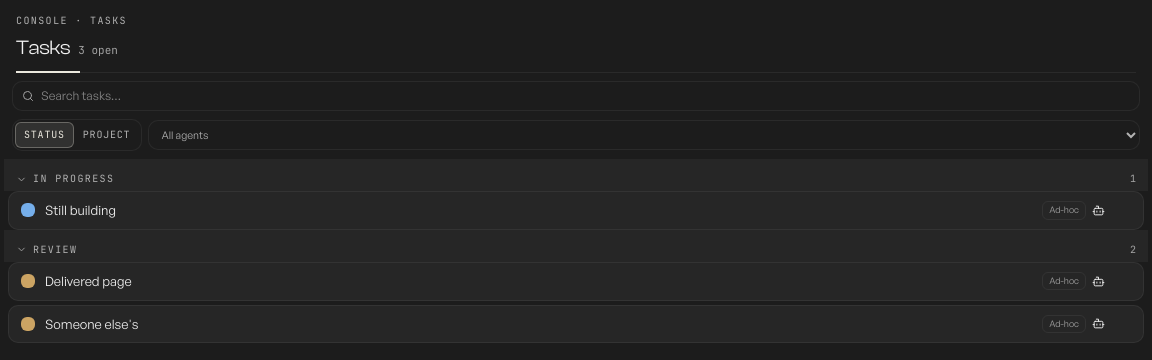
Test: TaskListColumn — agent filter keeps delivered cards › lists the agent's card in the operator's review next to its running one
Select "Beta" in the dropdown named "Filter by agent": (644, 135) [148, 120, 1140, 150]
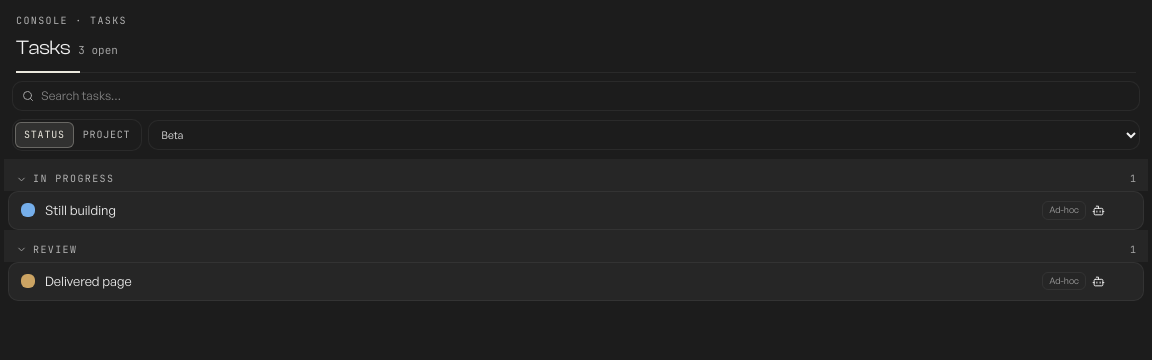
Expected: the text "Still building" is shown, [45, 202, 116, 218]
Result: the button "Someone else's" is gone
